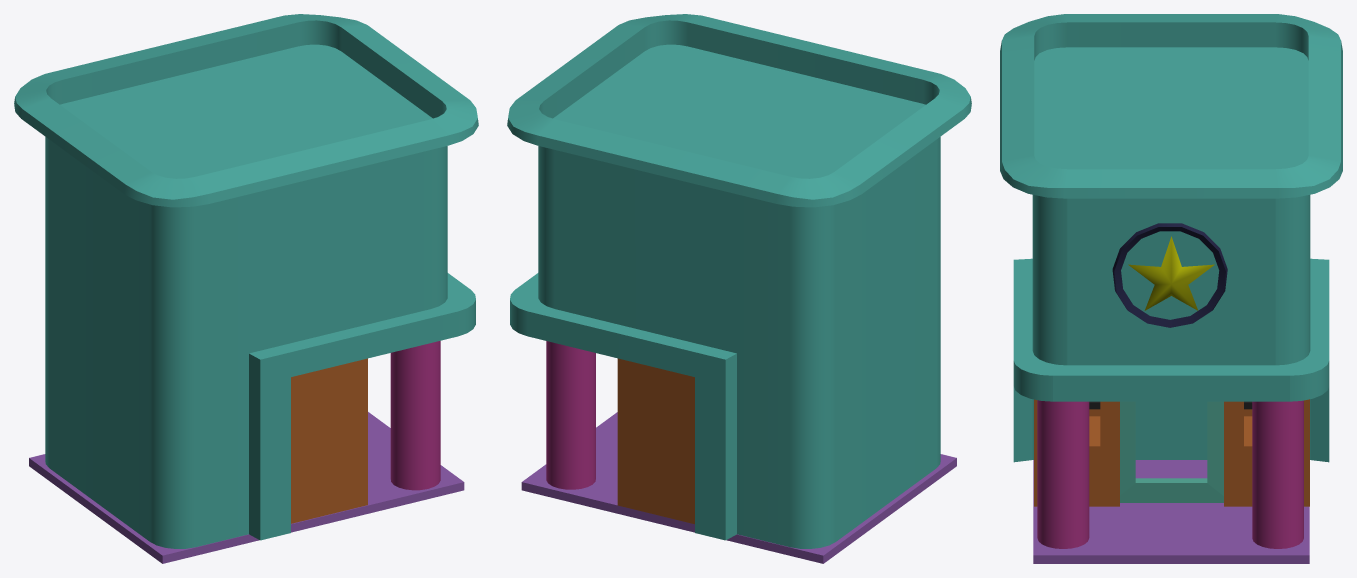
Rendered from Koban.fbx.
3 views of the same model, side by side, from view 1: azimuth 30°, elevation 25°; view 2: azimuth 150°, elevation 25°; view 3: azimuth 270°, elevation 25° (orthographic). The views are drawn at different scales.
Visible parts, largest first — view 1: Koban; view 2: Koban; view 3: Koban.
Part boxes in pixels (x1,y1,x2,y2): Koban: [14, 14, 478, 563]; Koban: [507, 14, 971, 563]; Koban: [1000, 14, 1342, 563].
Size of the model in its own units: 58.87 by 61.28 by 48.56.
